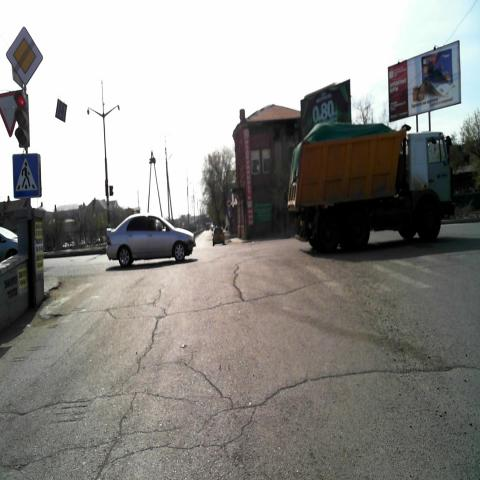2_2: (6, 26, 42, 86)
2_4: (0, 89, 21, 139)
5_15_7: (55, 99, 67, 123)
5_19_1: (13, 153, 41, 197)
